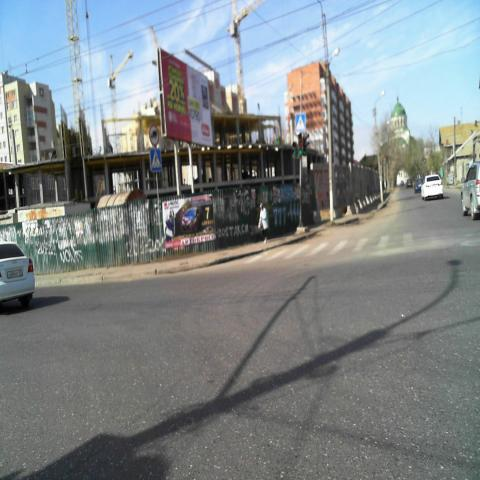3_4_1: (148, 123, 160, 147)
